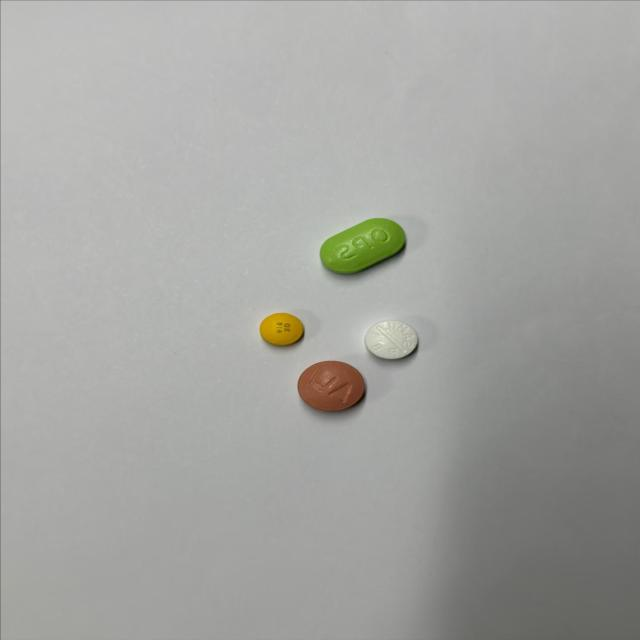Piller: (320, 219, 405, 274), (298, 361, 365, 411), (365, 320, 418, 359), (260, 312, 303, 345)
